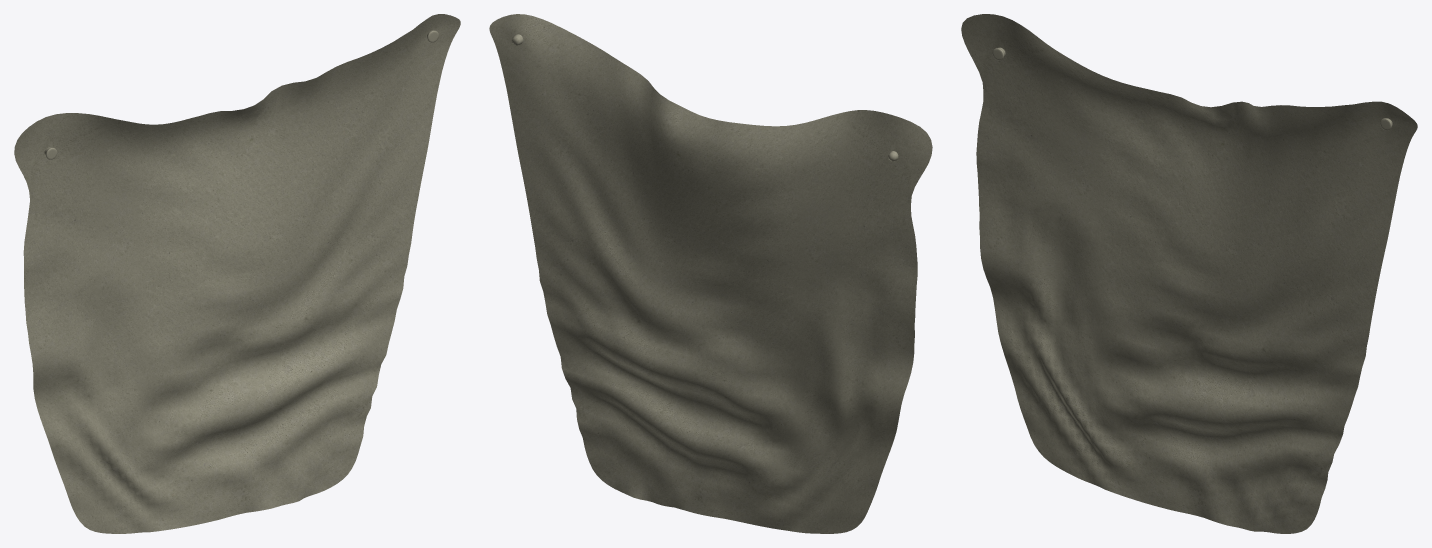
Rendered from Pantalla proyector.fbx.
3 renders of one model, left to right at view 1: azimuth 30°, elevation 25°; view 2: azimuth 150°, elevation 25°; view 3: azimuth 330°, elevation 25°, orthographic. The views are drawn at different scales.
Visible parts, largest first — view 1: pantalla_proyector; view 2: pantalla_proyector; view 3: pantalla_proyector.
Boxes of the visible parts, bbox=[...] form: pantalla_proyector: bbox=[14, 14, 460, 533]; pantalla_proyector: bbox=[489, 14, 932, 533]; pantalla_proyector: bbox=[961, 14, 1417, 533].
Size of the model in its own units: 346 by 338 by 24.64.
